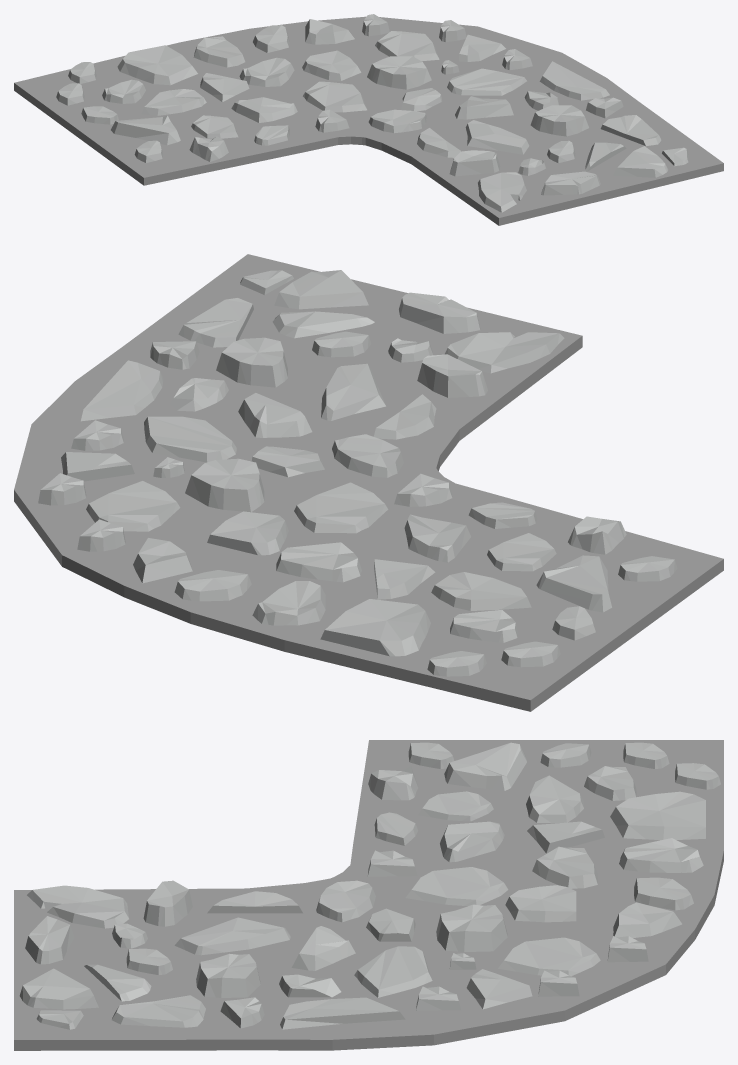
File: Road_Stone_02.glb
3 views of the same model, one above another, from view 1: azimuth 30°, elevation 25°; view 2: azimuth 150°, elevation 25°; view 3: azimuth 270°, elevation 25° (orthographic). The views are drawn at different scales.
Parts seen in each view (by area): view 1: Road_stone_2; view 2: Road_stone_2; view 3: Road_stone_2.
Boxes of the visible parts, <box> form: Road_stone_2: <box>14,14,723,225</box>; Road_stone_2: <box>14,254,723,711</box>; Road_stone_2: <box>14,740,723,1050</box>.
Bounding box in the file's own units: 6 × 0.3123 × 6.
1 material, 1 textured.
